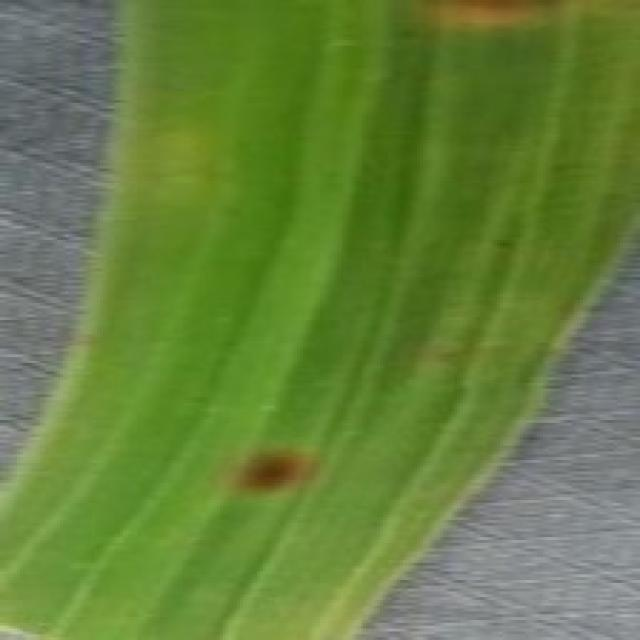Rice___Brown_Spot: (2, 0, 637, 637)
